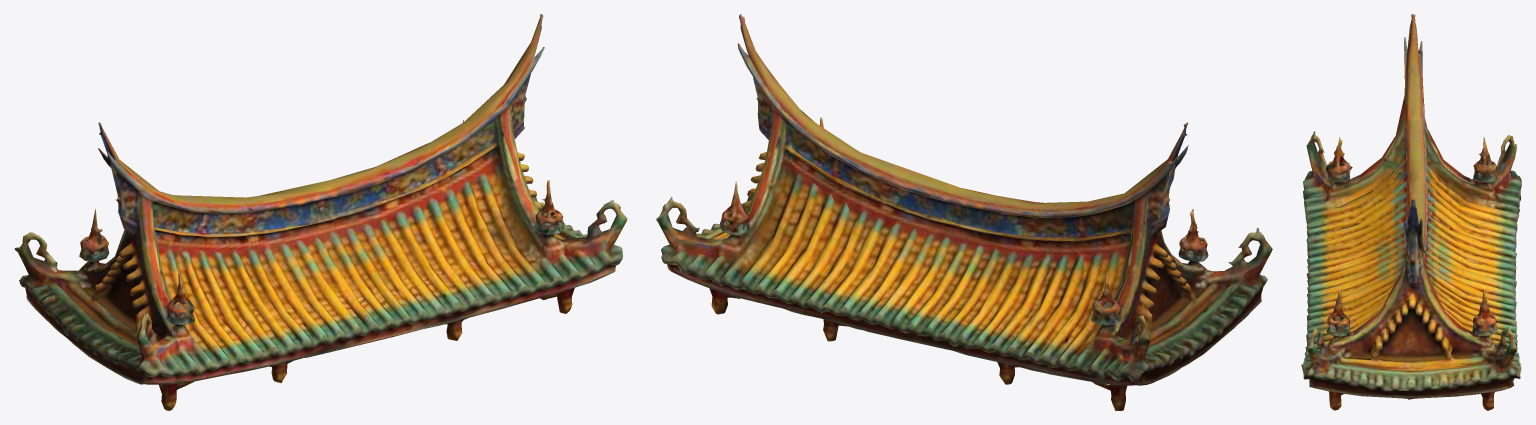
The model's file is roof3-lite.glb.
3 renders of one model, left to right at view 1: azimuth 30°, elevation 25°; view 2: azimuth 150°, elevation 25°; view 3: azimuth 270°, elevation 25°, orthographic. The views are drawn at different scales.
Size of the model in its own units: 0.9798 by 0.4959 by 0.4475.
Materials: 1 (1 with a texture image).
